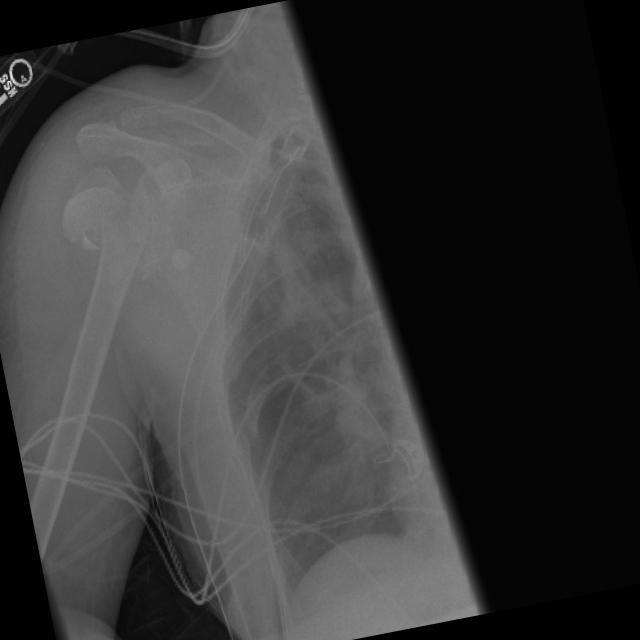shoulder fracture: (27, 156, 150, 279)
